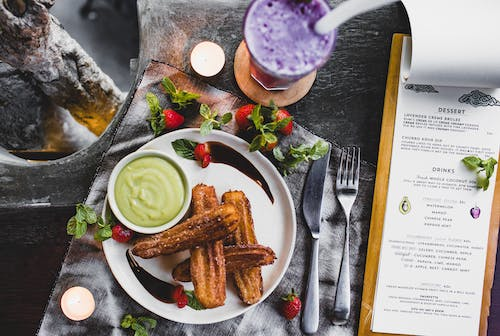knife: (298, 141, 333, 336)
